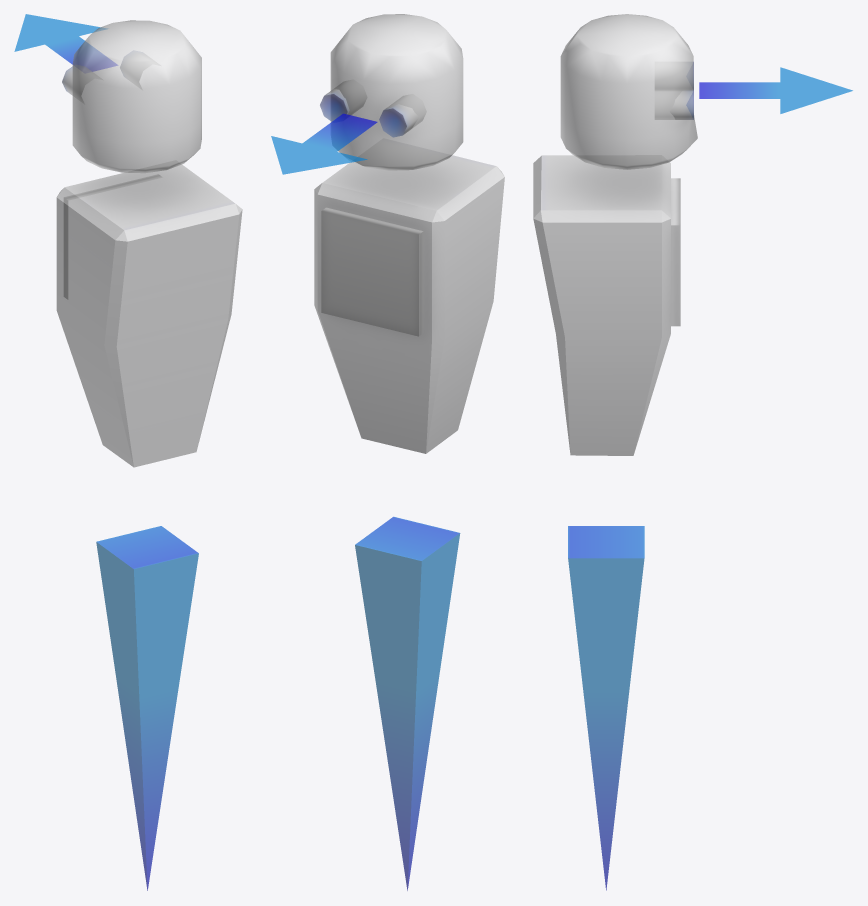
The model's file is spawn-point.glb.
The picture shows the model from 3 angles, left to right: view 1: azimuth 30°, elevation 25°; view 2: azimuth 150°, elevation 25°; view 3: azimuth 270°, elevation 25°; orthographic projection. The views are drawn at different scales.
Parts seen in each view (by area): view 1: __HBA_Gizmo_Waypoint; view 2: __HBA_Gizmo_Waypoint; view 3: __HBA_Gizmo_Waypoint.
Boxes of the visible parts, x1,y1,x2,y2 form: __HBA_Gizmo_Waypoint: [14, 14, 242, 890]; __HBA_Gizmo_Waypoint: [271, 14, 504, 890]; __HBA_Gizmo_Waypoint: [533, 14, 852, 890].
Bounding box in the file's own units: 0.27 × 1.72 × 0.5798.
Materials: 1 (1 with a texture image).
